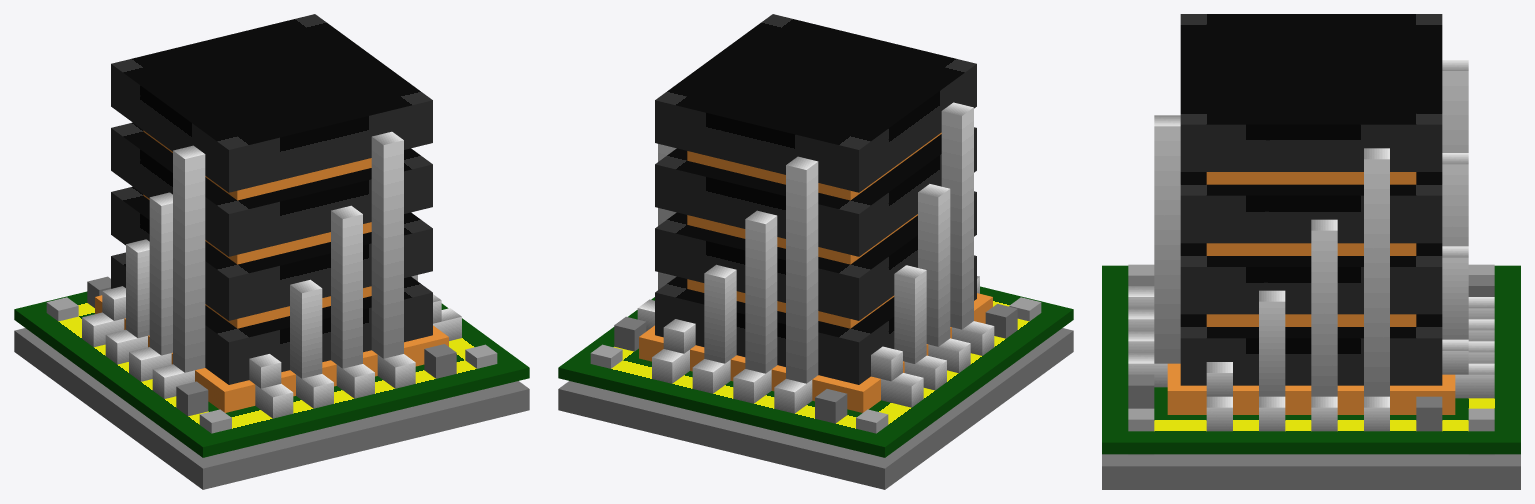
File: MNM_ACU.obj
3 views of the same model, side by side, from view 1: azimuth 30°, elevation 25°; view 2: azimuth 150°, elevation 25°; view 3: azimuth 270°, elevation 25° (orthographic). The views are drawn at different scales.
Parts seen in each view (by area): view 1: Cube.004_Cube.003, Cube.009_Cube.023, Cube.008_Cube.022, Cube_Cube.001, Cube.001_Cube.002, Cube.018, Cube.015, Cube.012, Cube.011, Cube.005_Cube.006, Cube.003_Cube, Cube.017 (+2 smaller); view 2: Cube.004_Cube.003, Cube.007_Cube.021, Cube.008_Cube.022, Cube_Cube.001, Cube.001_Cube.002, Cube.018, Cube.015, Cube.012, Cube.011, Cube.006_Cube.004, Cube.005_Cube.006, Cube.003_Cube (+2 smaller); view 3: Cube.004_Cube.003, Cube_Cube.001, Cube.006_Cube.004, Cube.001_Cube.002, Cube.018, Cube.015, Cube.007_Cube.021, Cube.012, Cube.009_Cube.023, Cube.011, Cube.003_Cube, Cube.005_Cube.006 (+2 smaller).
Part boxes in pixels (x1,y1,x2,y2): Cube.004_Cube.003: [111, 14, 432, 192]; Cube.009_Cube.023: [249, 131, 456, 418]; Cube.008_Cube.022: [82, 145, 208, 416]; Cube_Cube.001: [14, 291, 529, 457]; Cube.001_Cube.002: [14, 328, 529, 489]; Cube.018: [111, 122, 432, 256]; Cube.015: [111, 186, 432, 320]; Cube.012: [111, 252, 432, 384]; Cube.011: [95, 295, 448, 412]; Cube.005_Cube.006: [46, 297, 497, 433]; Cube.003_Cube: [143, 130, 371, 200]; Cube.017: [143, 194, 371, 264]; Cube.004_Cube.003: [655, 14, 976, 192]; Cube.007_Cube.021: [652, 156, 847, 423]; Cube.008_Cube.022: [871, 102, 1017, 407]; Cube_Cube.001: [558, 286, 1073, 457]; Cube.001_Cube.002: [558, 328, 1073, 489]; Cube.018: [655, 127, 976, 256]; Cube.015: [655, 191, 976, 320]; Cube.012: [655, 255, 976, 384]; Cube.011: [639, 293, 992, 412]; Cube.006_Cube.004: [614, 144, 676, 351]; Cube.005_Cube.006: [590, 297, 1041, 433]; Cube.003_Cube: [687, 132, 941, 200]; Cube.004_Cube.003: [1180, 14, 1442, 171]; Cube_Cube.001: [1102, 265, 1520, 454]; Cube.006_Cube.004: [1206, 148, 1442, 431]; Cube.001_Cube.002: [1102, 454, 1520, 489]; Cube.018: [1180, 172, 1442, 243]; Cube.015: [1180, 243, 1442, 314]; Cube.007_Cube.021: [1442, 60, 1494, 398]; Cube.012: [1180, 314, 1442, 385]; Cube.009_Cube.023: [1128, 115, 1180, 408]; Cube.011: [1167, 363, 1455, 414]; Cube.003_Cube: [1206, 172, 1416, 184]; Cube.005_Cube.006: [1128, 264, 1494, 431].
Bounding box in the file's own units: 16 × 14 × 16.
